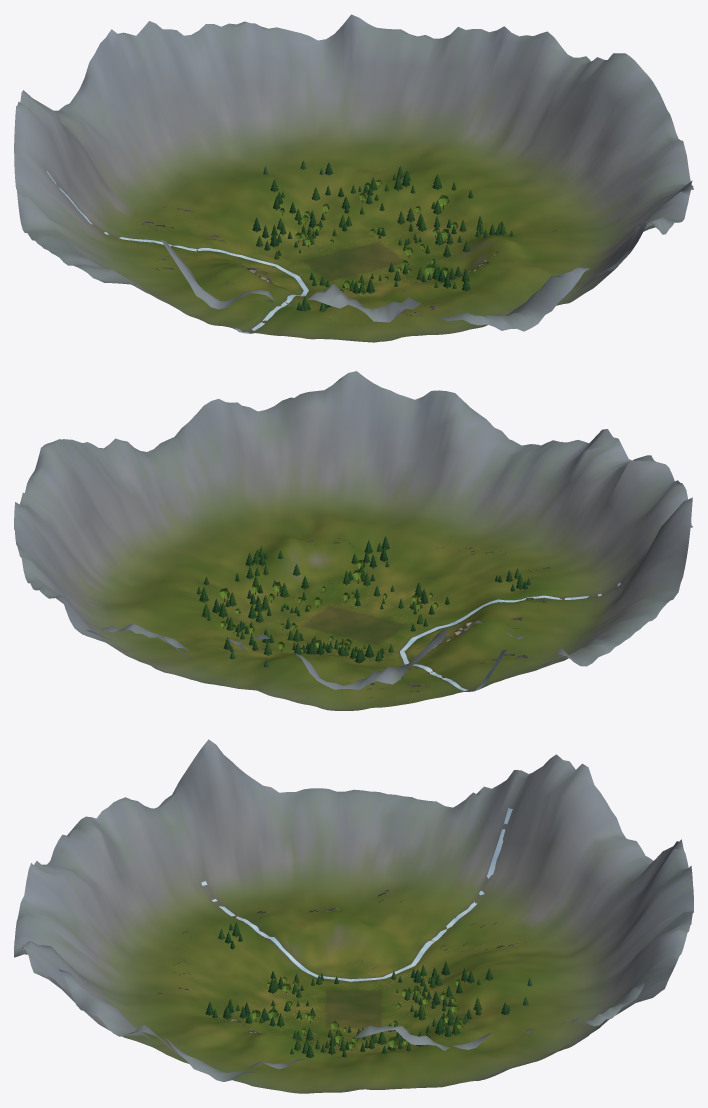
File: forge_valley.glb
The picture shows the model from 3 angles, top to bottom: view 1: azimuth 30°, elevation 25°; view 2: azimuth 150°, elevation 25°; view 3: azimuth 270°, elevation 25°; orthographic projection.
Parts seen in each view (by area): view 1: Valley_Terrain, Valley_Trees, Valley_Stream, Valley_Rocks; view 2: Valley_Terrain, Valley_Trees, Valley_Stream, Valley_Rocks; view 3: Valley_Terrain, Valley_Trees, Valley_Stream.
Boxes of the visible parts, x1=… form: Valley_Terrain: x1=14, y1=14, x2=693, y2=342; Valley_Trees: x1=252, y1=160, x2=513, y2=311; Valley_Stream: x1=47, y1=171, x2=308, y2=333; Valley_Rocks: x1=142, y1=201, x2=560, y2=326; Valley_Terrain: x1=14, y1=371, x2=692, y2=710; Valley_Trees: x1=197, y1=536, x2=530, y2=667; Valley_Stream: x1=400, y1=582, x2=620, y2=691; Valley_Rocks: x1=227, y1=533, x2=554, y2=697; Valley_Terrain: x1=14, y1=739, x2=693, y2=1093; Valley_Trees: x1=205, y1=922, x2=532, y2=1058; Valley_Stream: x1=201, y1=808, x2=512, y2=981.
Size of the model in its own units: 412 by 96.74 by 412.
